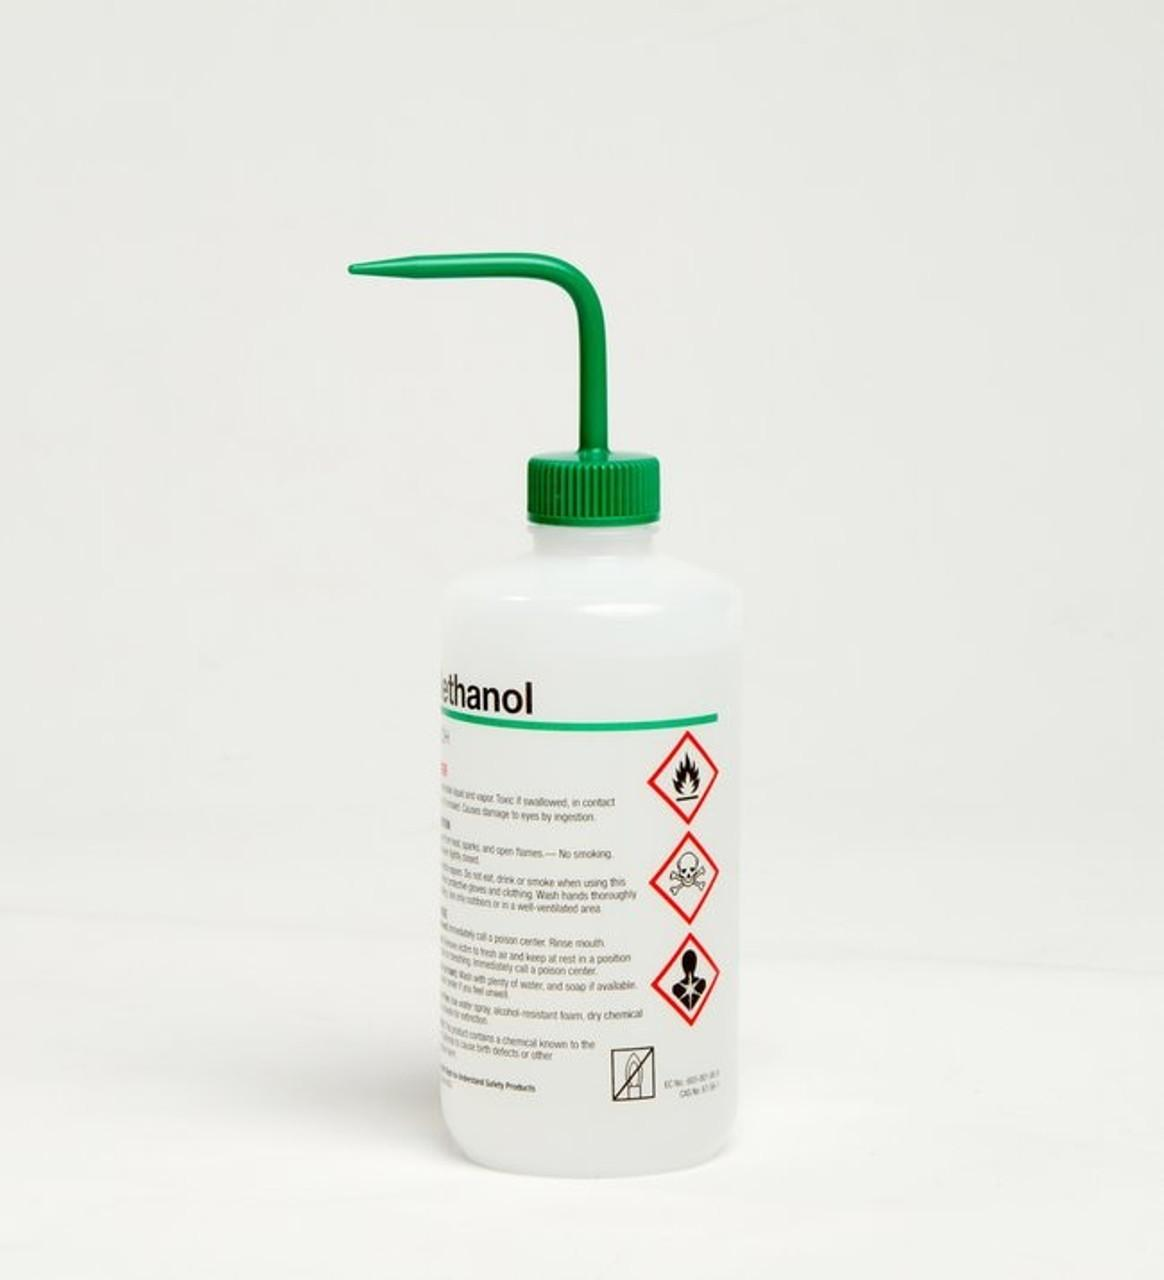HDPE: (345, 248, 662, 526)
LDPE: (438, 529, 738, 1173)
